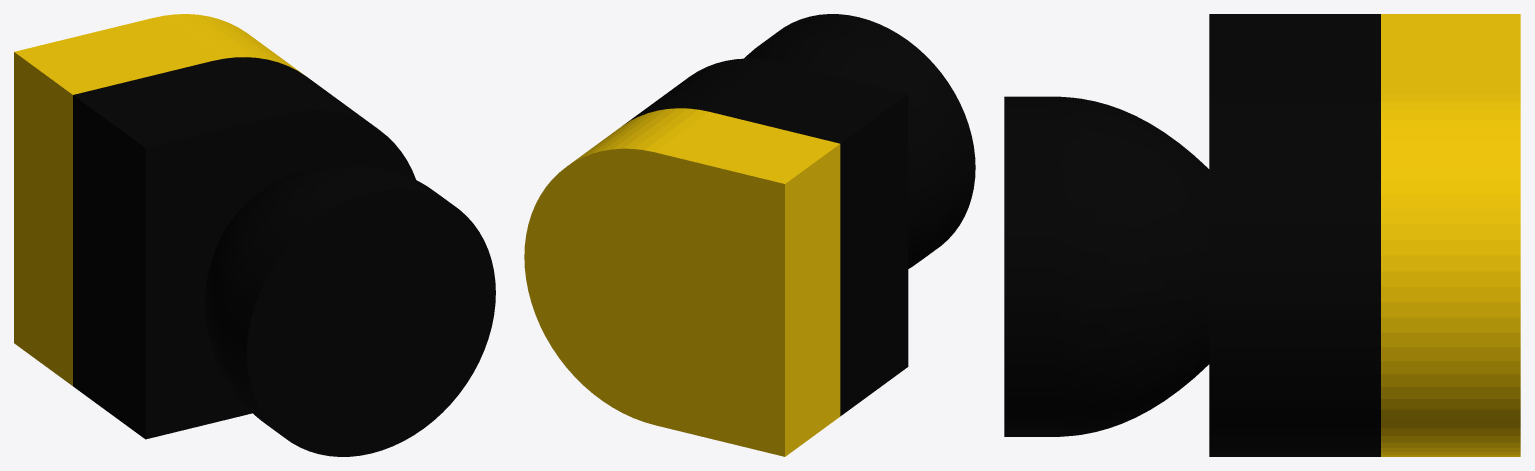
Rendered from sick_microscan3_mics3_cbaz40pz1.obj.
The picture shows the model from 3 angles, left to right: view 1: azimuth 30°, elevation 25°; view 2: azimuth 150°, elevation 25°; view 3: azimuth 270°, elevation 25°; orthographic projection. The views are drawn at different scales.
Parts seen in each view (by area): view 1: 2, 4, 1, 3; view 2: 1, 2, 3, 4; view 3: 2, 1, 3, 4.
Part boxes in pixels (bbox=[...]): 2: bbox=[73, 57, 415, 439]; 4: bbox=[226, 174, 495, 456]; 1: bbox=[14, 14, 303, 385]; 3: bbox=[205, 163, 428, 420]; 1: bbox=[524, 108, 840, 456]; 2: bbox=[624, 58, 908, 416]; 3: bbox=[744, 27, 956, 268]; 4: bbox=[766, 14, 975, 258]; 2: bbox=[1209, 14, 1380, 456]; 1: bbox=[1381, 14, 1520, 456]; 3: bbox=[1052, 96, 1209, 436]; 4: bbox=[1004, 96, 1051, 436].
Size of the model in its own units: 0.1111 by 0.1111 by 0.1507.
